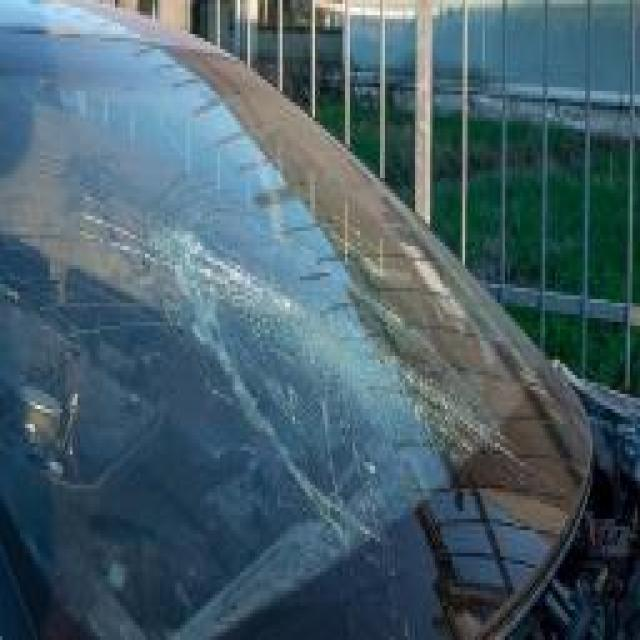Windshield: (0, 30, 595, 640)
